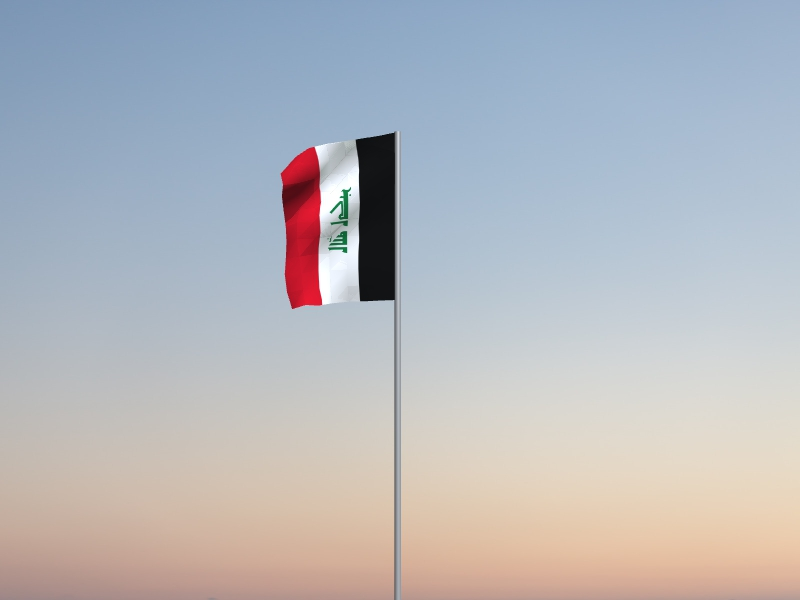iq: (280, 133, 395, 311)
